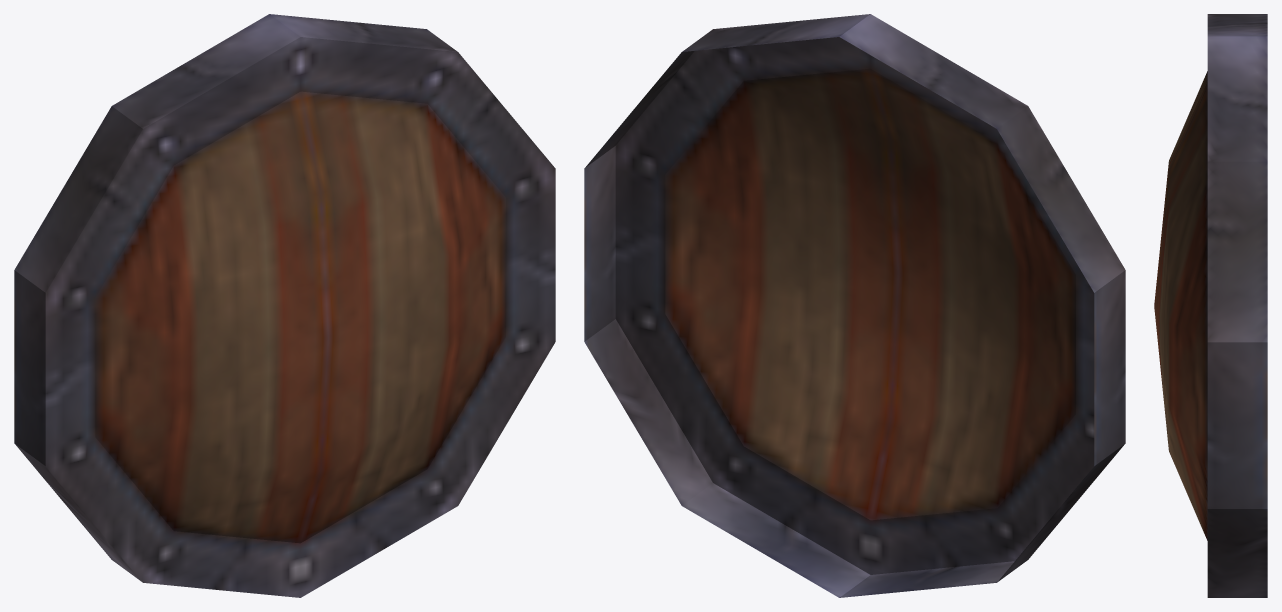
File: shield_2.FBX
3 views of the same model, side by side, from view 1: azimuth 30°, elevation 25°; view 2: azimuth 150°, elevation 25°; view 3: azimuth 270°, elevation 25° (orthographic). The views are drawn at different scales.
Visible parts, largest first — view 1: shield_2; view 2: shield_2; view 3: shield_2.
Part boxes in pixels (<box>): shield_2: <box>14,14,555,597</box>; shield_2: <box>584,14,1125,597</box>; shield_2: <box>1154,14,1267,597</box>.
Size of the model in its own units: 24.88 by 26.16 by 5.
